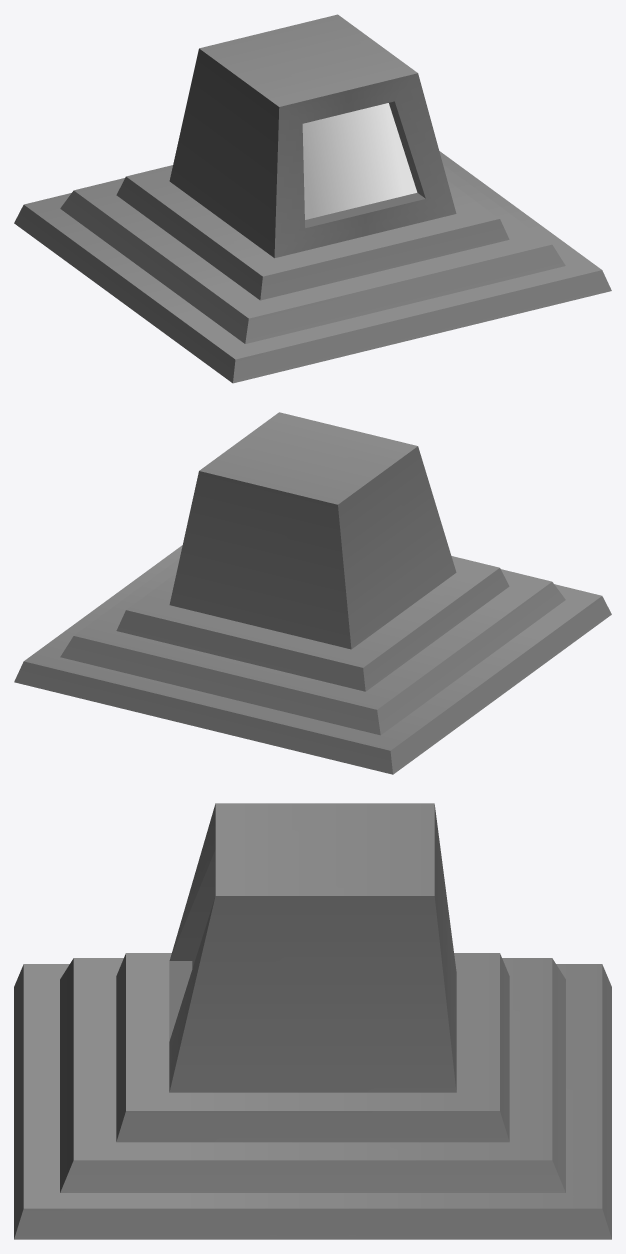
Rendered from PROP_015_MemorialPedestal.fbx.
3 views of the same model, one above another, from view 1: azimuth 30°, elevation 25°; view 2: azimuth 150°, elevation 25°; view 3: azimuth 270°, elevation 25° (orthographic). The views are drawn at different scales.
Parts seen in each view (by area): view 1: PROP_015_MemorialPedestal; view 2: PROP_015_MemorialPedestal; view 3: PROP_015_MemorialPedestal.
Boxes of the visible parts, x1,y1,x2,y2 form: PROP_015_MemorialPedestal: (14,14,611,383); PROP_015_MemorialPedestal: (14,412,611,774); PROP_015_MemorialPedestal: (14,803,611,1239).
Bounding box in the file's own units: 21.07 × 10.26 × 21.07.
